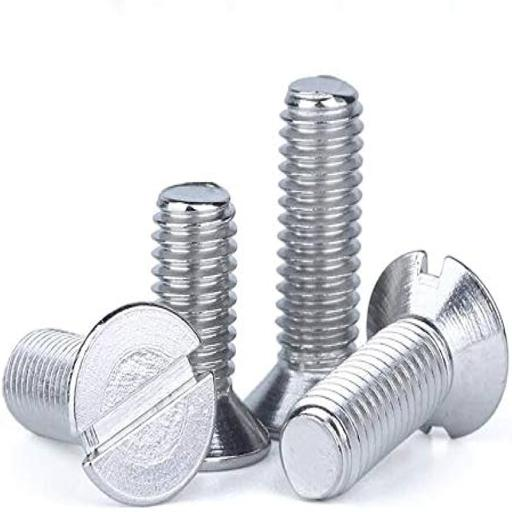Slotted: (73, 298, 217, 506)
